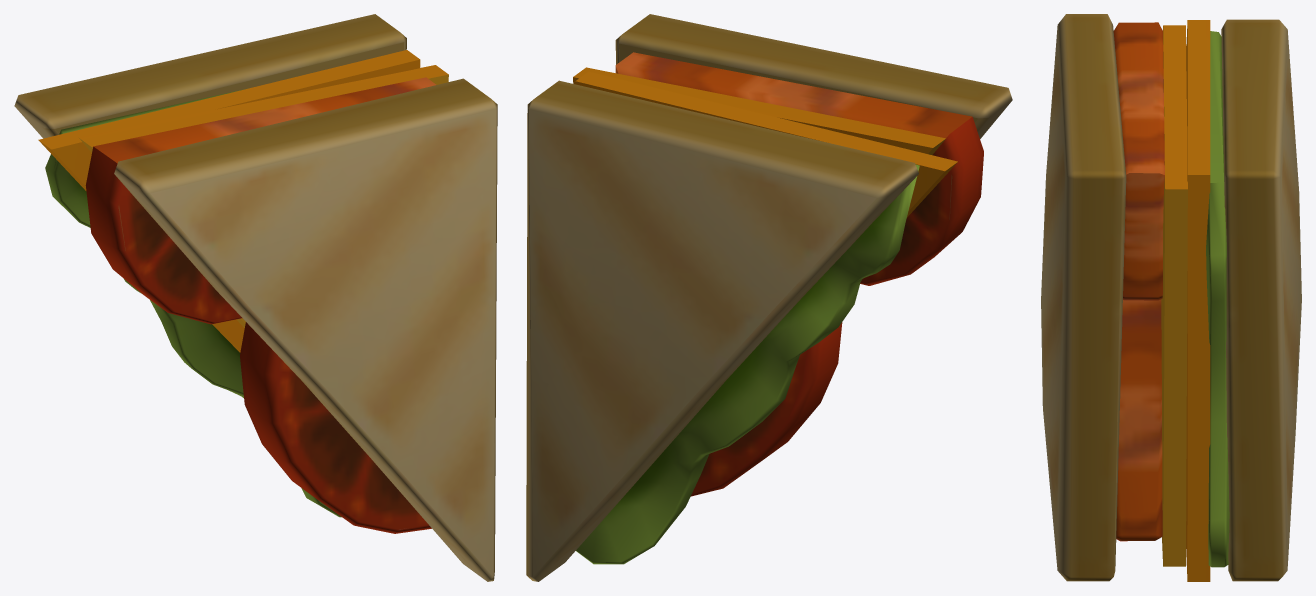
File: ToolSandwich.glb
3 views of the same model, side by side, from view 1: azimuth 30°, elevation 25°; view 2: azimuth 150°, elevation 25°; view 3: azimuth 270°, elevation 25° (orthographic). The views are drawn at different scales.
Parts seen in each view (by area): view 1: L_bread__mTool; view 2: L_bread__mTool; view 3: L_bread__mTool.
Part boxes in pixels (x1=…): L_bread__mTool: x1=14, y1=14, x2=497, y2=581; L_bread__mTool: x1=526, y1=14, x2=1012, y2=581; L_bread__mTool: x1=1041, y1=14, x2=1301, y2=581.
Bounding box in the file's own units: 2.53 × 3 × 1.69.
Materials: 1 (1 with a texture image).
